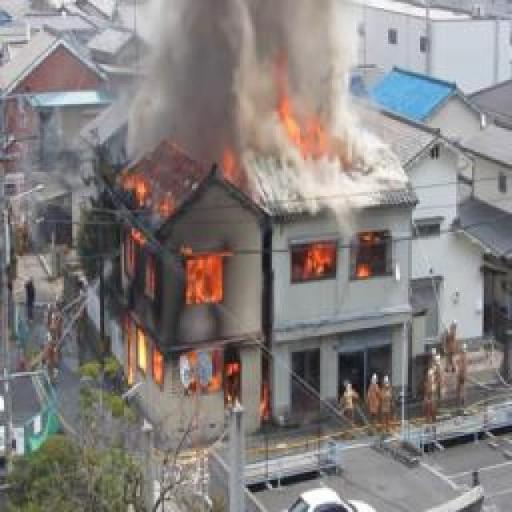smoke: (112, 151, 250, 411), (289, 230, 394, 280), (280, 110, 343, 164)
